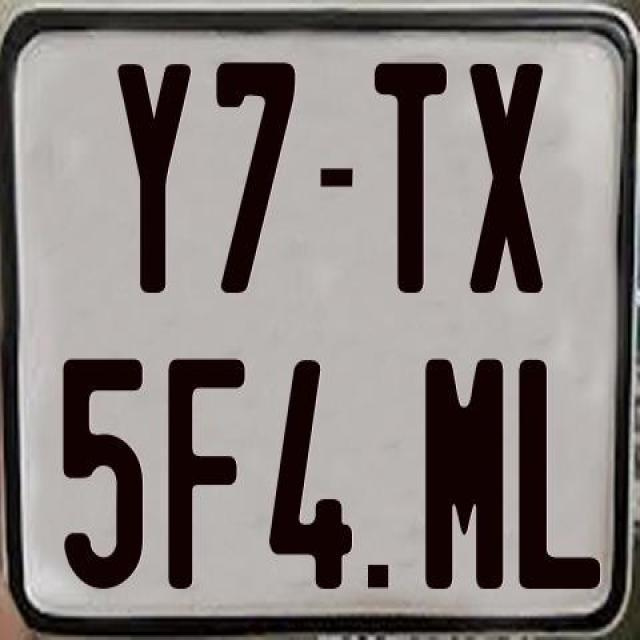4: (266, 361, 350, 594)
5: (62, 358, 146, 594)
7: (212, 61, 292, 300)
F: (165, 355, 248, 592)
L: (518, 358, 606, 590)
M: (425, 355, 503, 595)
T: (373, 58, 448, 292)
X: (469, 59, 551, 290)
Y: (114, 64, 194, 293)
